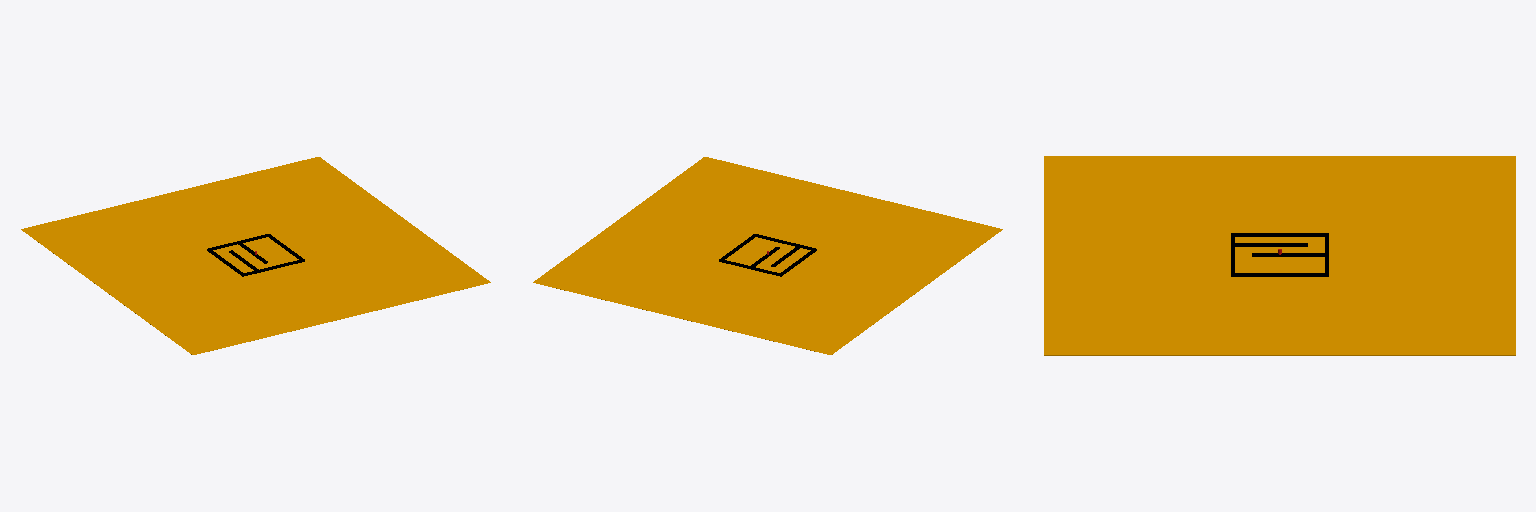
robot.urdf — robot:
<?xml version="1.0" encoding="utf-8"?>

<robot name="robot">

    <material name="black">
        <color rgba="0 0 0 1"/>
    </material>
    <material name="red">
        <color rgba="0.8 0.1 0.1 1"/>
    </material>
    <material name="green">
        <color rgba="0.1 0.9 0.1 1"/>
    </material>
    <material name="white">
        <color rgba="1 1 1 1"/>
    </material>

    <link name="base_link">
        <origin rpy="0.0 0.0 0.0" xyz="0 0 0.00"/>
        <visual>
            <!-- <origin rpy="0.0 0.0 0.0" xyz="0.0 0.0 0.0"/> -->
            <geometry>
                <box size="5 5 0.001"/>
            </geometry>
        </visual>
    </link>

    <!-- <link name="maze">
        <visual>
            <origin rpy="0.0 0.0 0.0" xyz="0.0 0.0 0.0"/>
            <geometry>
                <mesh filename="package://maze/urdf/meshes/maze.stl"/>
            </geometry>
        </visual>
        <collision>
            <origin rpy="0.0 0.0 0.0" xyz="0.0 0.0 0.0"/>
            <geometry>
                <mesh filename="package://maze/urdf/meshes/maze.stl"/>
            </geometry>
        </collision>
        <inertial>
            <mass value="10000"/>
            <inertia ixx="100"  ixy="0"  ixz="0" iyy="100" iyz="0" izz="100" />
        </inertial>
    </link> -->

    <link name="wall_left">
        <visual>
            <origin rpy="0.0 0.0 0.0" xyz="0.0 0.0 0.0"/>
            <geometry>
                <box size="0.05 1.05 0.05"/>
            </geometry>
            <material name="black"/>
        </visual>
        <collision>
            <origin rpy="0.0 0.0 0.0" xyz="0.0 0.0 0.0"/>
            <geometry>
                <box size="0.05 1 0.15"/>
            </geometry>
        </collision>
        <inertial>
            <mass value="10000"/>
            <inertia ixx="100"  ixy="0"  ixz="0" iyy="100" iyz="0" izz="100" />
        </inertial>
    </link>

    <joint name="base_to_wall_left" type="fixed">
        <parent link="base_link"/>
        <child link="wall_left"/>
        <origin rpy="0 0 0" xyz="-0.5 0 0"/>
    </joint>


    <link name="wall_right">
        <visual>
            <origin rpy="0.0 0.0 0.0" xyz="0.0 0.0 0.0"/>
            <geometry>
                <box size="0.05 1.05 0.05"/>
            </geometry>
            <material name="black"/>
        </visual>
        <collision>
            <origin rpy="0.0 0.0 0.0" xyz="0.0 0.0 0.0"/>
            <geometry>
                <box size="0.05 1 0.15"/>
            </geometry>
        </collision>
        <inertial>
            <mass value="10000"/>
            <inertia ixx="100"  ixy="0"  ixz="0" iyy="100" iyz="0" izz="100" />
        </inertial>
    </link>

    <joint name="base_to_wall_right" type="fixed">
        <parent link="base_link"/>
        <child link="wall_right"/>
        <origin rpy="0 0 0" xyz="0.5 0 0"/>
    </joint>


     <link name="wall_top">
        <visual>
            <origin rpy="0.0 0.0 0.0" xyz="0.0 0.0 0.0"/>
            <geometry>
                <box size="1.0 0.05 0.05"/>
            </geometry>
            <material name="black"/>
        </visual>
        <collision>
            <origin rpy="0.0 0.0 0.0" xyz="0.0 0.0 0.0"/>
            <geometry>
                <box size="1.0 0.05 0.15"/>
            </geometry>
        </collision>
        <inertial>
            <mass value="10000"/>
            <inertia ixx="100"  ixy="0"  ixz="0" iyy="100" iyz="0" izz="100" />
        </inertial>
    </link>

    <joint name="base_to_wall_top" type="fixed">
        <parent link="base_link"/>
        <child link="wall_top"/>
        <origin rpy="0 0 0" xyz="0 0.5 0"/>
    </joint>

    <link name="wall_bottom">
        <visual>
            <origin rpy="0.0 0.0 0.0" xyz="0.0 0.0 0.0"/>
            <geometry>
                <box size="1.0 0.05 0.05"/>
            </geometry>
            <material name="black"/>
        </visual>
        <collision>
            <origin rpy="0.0 0.0 0.0" xyz="0.0 0.0 0.0"/>
            <geometry>
                <box size="1.0 0.05 0.15"/>
            </geometry>
        </collision>
        <inertial>
            <mass value="10000"/>
            <inertia ixx="100"  ixy="0"  ixz="0" iyy="100" iyz="0" izz="100" />
        </inertial>
    </link>

    <joint name="base_to_wall_bottom" type="fixed">
        <parent link="base_link"/>
        <child link="wall_bottom"/>
        <origin rpy="0 0 0" xyz="0 -0.5 0"/>
    </joint>


    <link name="obs_left">
        <visual>
            <origin rpy="0.0 0.0 0.0" xyz="0.0 0.0 0.0"/>
            <geometry>
                <box size="0.05 0.8 0.05"/>
            </geometry>
            <material name="black"/>
        </visual>
        <collision>
            <origin rpy="0.0 0.0 0.0" xyz="0.0 0.0 0.0"/>
            <geometry>
                <box size="0.05 0.80 0.15"/>
            </geometry>
        </collision>
        <inertial>
            <mass value="10000"/>
            <inertia ixx="100"  ixy="0"  ixz="0" iyy="100" iyz="0" izz="100" />
        </inertial>
    </link>

    <joint name="base_to_obs_left" type="fixed">
        <parent link="base_link"/>
        <child link="obs_left"/>
        <origin rpy="0 0 0" xyz="-0.25 -0.1 0"/>
    </joint>

     <link name="obs_mid">
        <visual>
            <origin rpy="0.0 0.0 0.0" xyz="0.0 0.0 0.0"/>
            <geometry>
                <box size="0.05 0.8 0.05"/>
            </geometry>
            <material name="black"/>
        </visual>
        <collision>
            <origin rpy="0.0 0.0 0.0" xyz="0.0 0.0 0.0"/>
            <geometry>
                <box size="0.05 0.80 0.15"/>
            </geometry>
        </collision>
        <inertial>
            <mass value="10000"/>
            <inertia ixx="100"  ixy="0"  ixz="0" iyy="100" iyz="0" izz="100" />
        </inertial>
    </link>

    <joint name="base_to_obs_mid" type="fixed">
        <parent link="base_link"/>
        <child link="obs_mid"/>
        <origin rpy="0 0 0" xyz="0.0 0.1 0"/>
    </joint>


    <!-- <link name="obs_right">
        <visual>
            <origin rpy="0.0 0.0 0.0" xyz="0.0 0.0 0.0"/>
            <geometry>
                <box size="0.05 0.8 0.05"/>
            </geometry>
            <material name="black"/>
        </visual>
        <collision>
            <origin rpy="0.0 0.0 0.0" xyz="0.0 0.0 0.0"/>
            <geometry>
                <box size="0.05 0.80 0.15"/>
            </geometry>
        </collision>
        <inertial>
            <mass value="10000"/>
            <inertia ixx="100"  ixy="0"  ixz="0" iyy="100" iyz="0" izz="100" />
        </inertial>
    </link>

    <joint name="base_to_obs_right" type="fixed">
        <parent link="base_link"/>
        <child link="obs_right"/>
        <origin rpy="0 0 0" xyz="0.25 -0.1 0"/>
    </joint> -->

    <link name="bot_x">
        <origin rpy="0.0 0.0 0.0" xyz="0.0 0.0 0.0"/>
    </link>

    <link name="bot">
        <visual>
            <origin rpy="0.0 0.0 0.0" xyz="0 0 0.03"/>
            <geometry>
                <cylinder radius="0.02" length="0.05"/>
            </geometry>
            <material name="red"/>
        </visual>
        <collision>
            <origin rpy="0.0 0.0 0.0" xyz="0 0 0.03"/>
            <geometry>
                <cylinder radius="0.02" length="0.05"/>
            </geometry>
        </collision>
        <inertial>
            <origin xyz="0 0 0" rpy="0 0 0"/>
            <mass value="0.2"/>
        </inertial>
    </link>

    <joint name="base_to_bot_x" type="prismatic">
        <parent link="base_link"/>
        <child link="bot_x"/>
        <origin rpy="0 0 0" xyz="0 0 0.01"/>
        <axis xyz="1 0 0"/>
        <limit lower="-0.4" upper="0.4"/>
    </joint>

    <joint name="bot_x_to_bot" type="prismatic">
        <parent link="bot_x"/>
        <child link="bot"/>
        <origin rpy="0 0 0" xyz="0 0 0.01"/>
        <axis xyz="0 1 0"/>
        <limit lower="-0.4" upper="0.4"/>
    </joint>

    <!-- <link name="goal">
        <visual>
            <origin rpy="0.0 0.0 0.0" xyz="0 0 0.03"/>
            <geometry>
                <cylinder radius="0.05" length="0.05"/>
            </geometry>
            <material name="green"/>
        </visual>
    </link>


    <joint name="base_to_goal" type="fixed">
        <parent link="base_link"/>
        <child link="goal"/>
        <origin rpy="0 0 0" xyz="0.35 -0.4 0.01"/>
        <axis xyz="0 1 0"/>
    </joint> -->

</robot>

--- Render facts (derived) ---
Views: 3 orthographic renders of the robot side by side, from view 1: azimuth 30°, elevation 25°; view 2: azimuth 150°, elevation 25°; view 3: azimuth 270°, elevation 25°.
Robot: robot — 9 links, 8 joints (2 prismatic, 6 fixed); root link base_link; default pose: every joint at zero.
Visible links, largest first — view 1: base_link; view 2: base_link; view 3: base_link.
Boxes of the visible links, box(x1,y1,x2,y2) form: base_link: box(21, 157, 490, 354); base_link: box(533, 157, 1002, 354); base_link: box(1044, 156, 1515, 355).
Bounding box of the posed robot: 5 × 5 × 0.1 m (x, y, z).
Geometry: primitives only (box / cylinder / sphere), no mesh files.